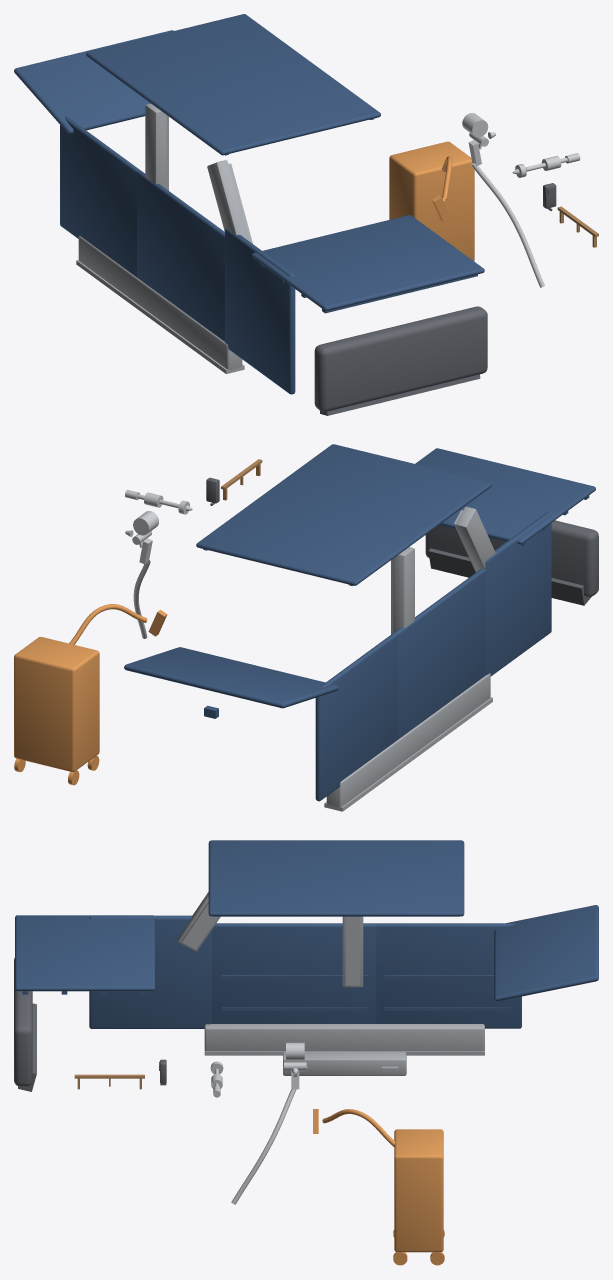
File: kaporta.glb
3 views of the same model, one above another, from view 1: azimuth 30°, elevation 25°; view 2: azimuth 150°, elevation 25°; view 3: azimuth 270°, elevation 25° (orthographic). The views are drawn at different scales.
Visible parts, largest first — view 1: tavan_paneli, tampon_kaporta, kaput, on_kapi_paneli, arka_kapi_paneli, on_camurluk, kaynak_makinesi, bagaj_kapagi, esik_saci, direk_a, direk_b, boya_tabancasi (+1 smaller); view 2: tavan_paneli, kaynak_makinesi, on_kapi_paneli, arka_kapi_paneli, on_camurluk, kaput, bagaj_kapagi, tampon_kaporta, esik_saci, direk_b, direk_a, boya_tabancasi (+1 smaller); view 3: tavan_paneli, on_kapi_paneli, arka_kapi_paneli, kaput, on_camurluk, esik_saci, bagaj_kapagi, kaynak_makinesi, tasiyici_ayak, tampon_kaporta, direk_b, boya_tabancasi (+1 smaller).
Part boxes in pixels (left/top/right/bottom): tavan_paneli: left=86, top=14, right=380, bottom=155; tampon_kaporta: left=314, top=306, right=487, bottom=415; kaput: left=251, top=215, right=484, bottom=313; on_kapi_paneli: left=136, top=170, right=224, bottom=341; arka_kapi_paneli: left=60, top=116, right=140, bottom=277; on_camurluk: left=225, top=228, right=295, bottom=394; kaynak_makinesi: left=389, top=141, right=474, bottom=260; bagaj_kapagi: left=14, top=30, right=173, bottom=134; esik_saci: left=76, top=235, right=244, bottom=373; direk_a: left=207, top=160, right=252, bottom=243; direk_b: left=145, top=103, right=168, bottom=190; boya_tabancasi: left=462, top=113, right=544, bottom=287; tavan_paneli: left=196, top=444, right=491, bottom=585; kaynak_makinesi: left=14, top=604, right=167, bottom=785; on_kapi_paneli: left=393, top=568, right=486, bottom=739; arka_kapi_paneli: left=315, top=632, right=398, bottom=801; on_camurluk: left=485, top=512, right=551, bottom=676; kaput: left=415, top=448, right=595, bottom=545; bagaj_kapagi: left=124, top=647, right=338, bottom=718; tampon_kaporta: left=425, top=520, right=598, bottom=605; esik_saci: left=324, top=673, right=492, bottom=811; direk_b: left=391, top=547, right=414, bottom=634; direk_a: left=454, top=506, right=495, bottom=572; boya_tabancasi: left=125, top=511, right=158, bottom=638; tavan_paneli: left=208, top=840, right=464, bottom=916; on_kapi_paneli: left=211, top=923, right=379, bottom=1023; arka_kapi_paneli: left=376, top=923, right=521, bottom=1028; kaput: left=15, top=915, right=154, bottom=994; on_camurluk: left=89, top=915, right=211, bottom=1028; esik_saci: left=204, top=1024, right=484, bottom=1055; bagaj_kapagi: left=494, top=905, right=598, bottom=1001; kaynak_makinesi: left=313, top=1109, right=444, bottom=1265; tasiyici_ayak: left=283, top=1052, right=406, bottom=1075; tampon_kaporta: left=14, top=958, right=36, bottom=1091; direk_b: left=342, top=916, right=363, bottom=987; boya_tabancasi: left=231, top=1042, right=306, bottom=1204.
Bounding box in the file's own units: 1.91 × 1.42 × 2.84.
